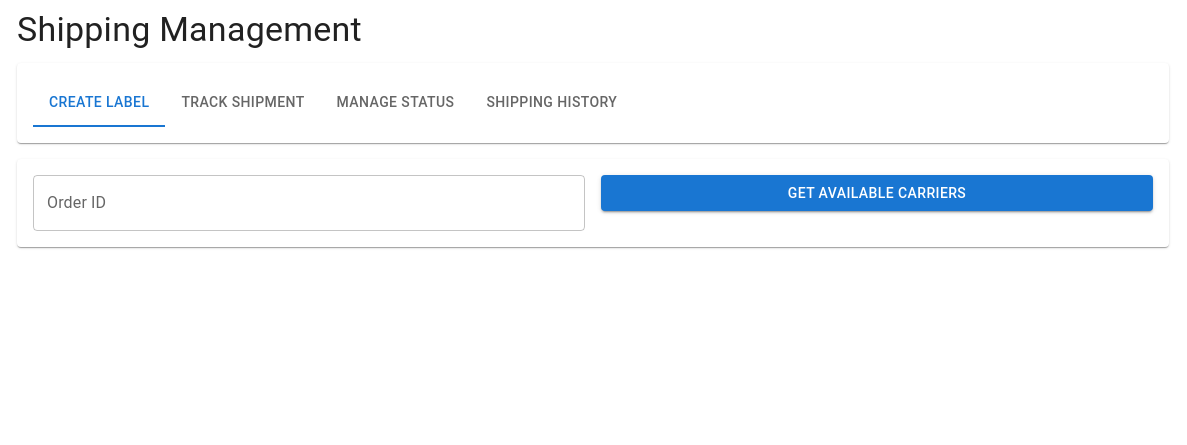
Test: Shipping Component › displays shipping history
The width and height of the screenshot is (1187, 445).
Note: Switch to history tab
Step 1. Click the tab "Shipping History" → (552, 103), box 470,79 -> 633,127
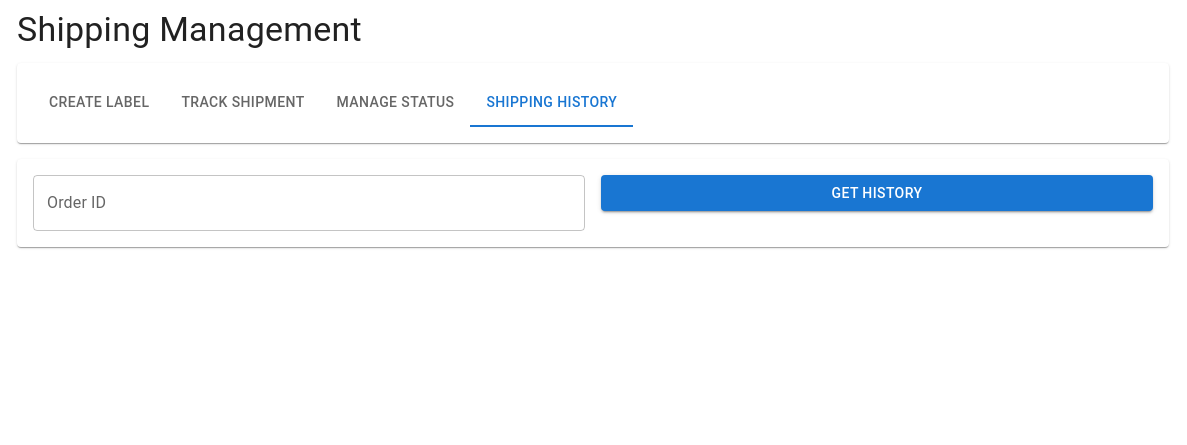
Step 2. Type "test123" into the field labelled "Order ID" → (309, 203), box 33,175 -> 585,231
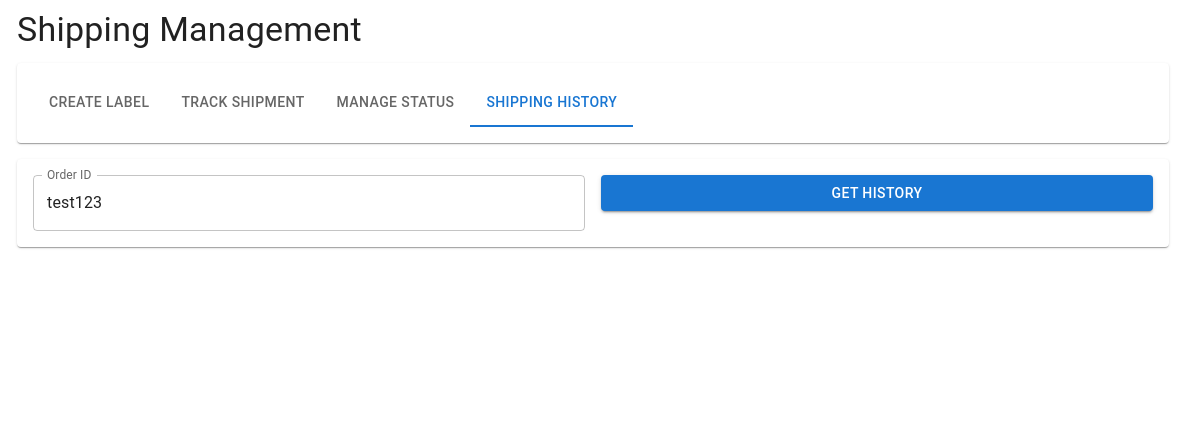
Step 3. Click the button "Get History" → (877, 193), box 601,175 -> 1153,211
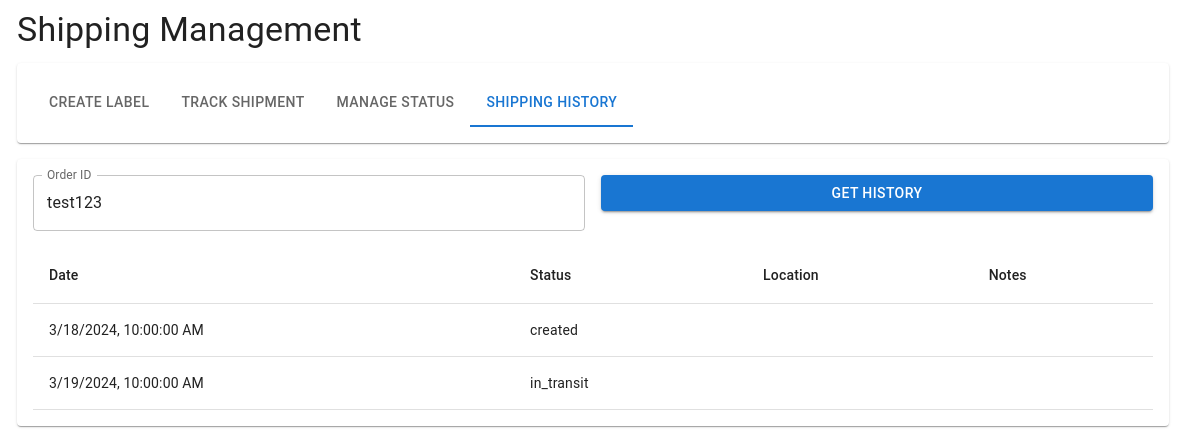
Now the text "created" is shown, box 514,303 -> 747,356
Now the text "in_transit" is shown, box 514,356 -> 747,409
